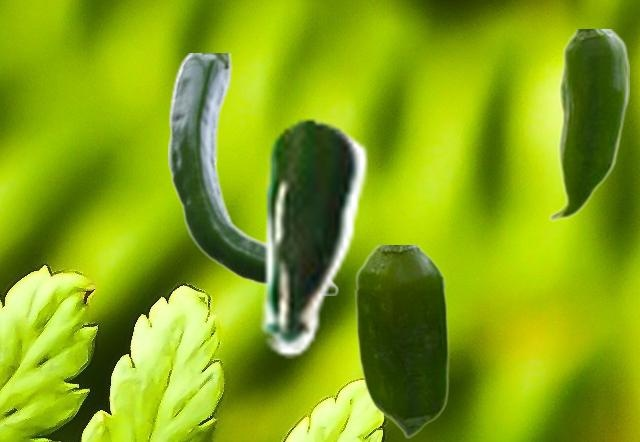green_chili: (168, 53, 338, 294), (254, 116, 369, 357), (354, 245, 448, 437), (547, 29, 628, 221)
